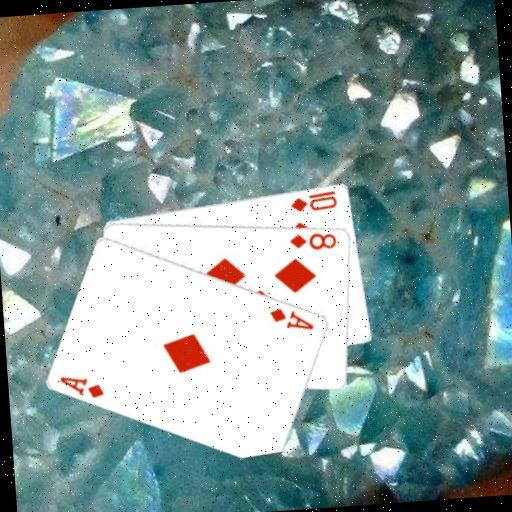10D: (287, 187, 340, 214)
8D: (286, 228, 339, 253)
AD: (267, 302, 316, 334), (57, 370, 106, 402)
